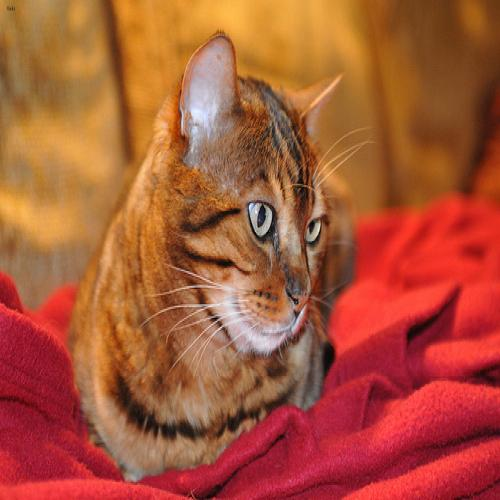cat-face: (149, 32, 352, 362)
